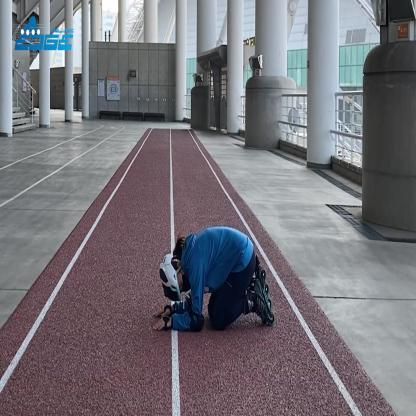Fall_Down: (152, 228, 269, 332)
